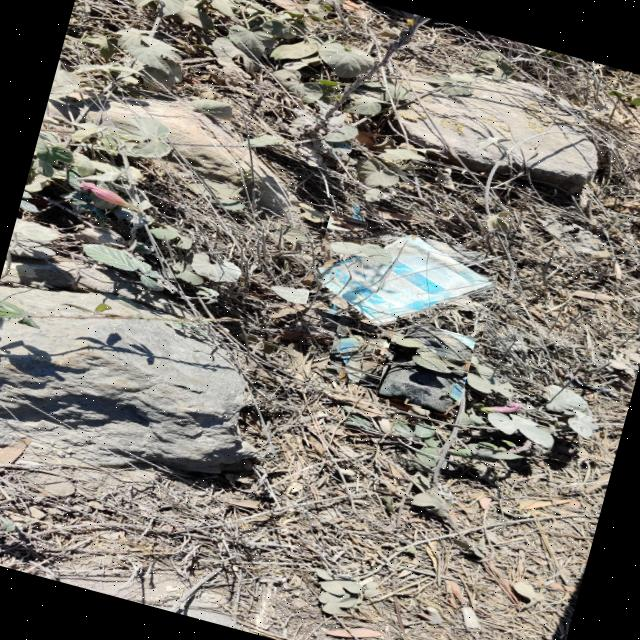Glass bottle: (378, 324, 472, 415)
Other carton: (334, 334, 408, 383)
Other plastic: (312, 234, 494, 328)
